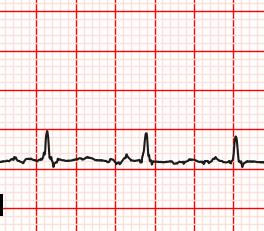Poor R Progression: (138, 129, 155, 165), (40, 128, 55, 163), (228, 134, 243, 167)
